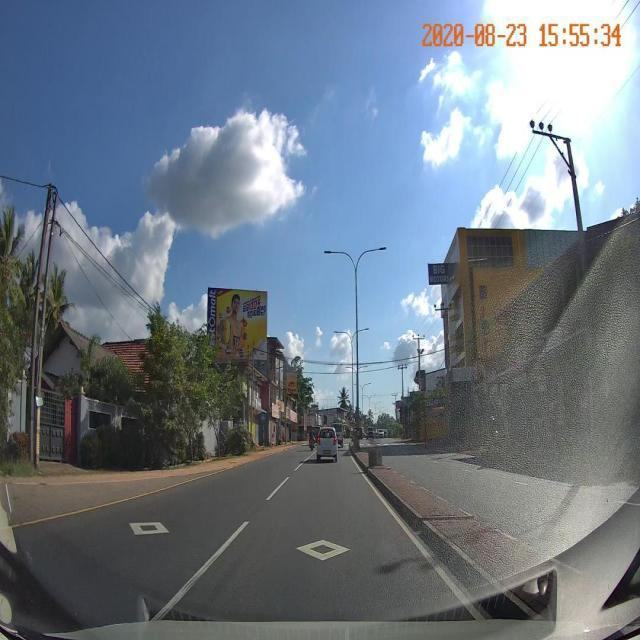Liniya 1: (349, 457, 489, 620), (11, 472, 220, 530), (148, 518, 256, 622), (264, 475, 292, 502), (293, 455, 312, 473)
Romb: (297, 538, 350, 560), (131, 521, 168, 536)
